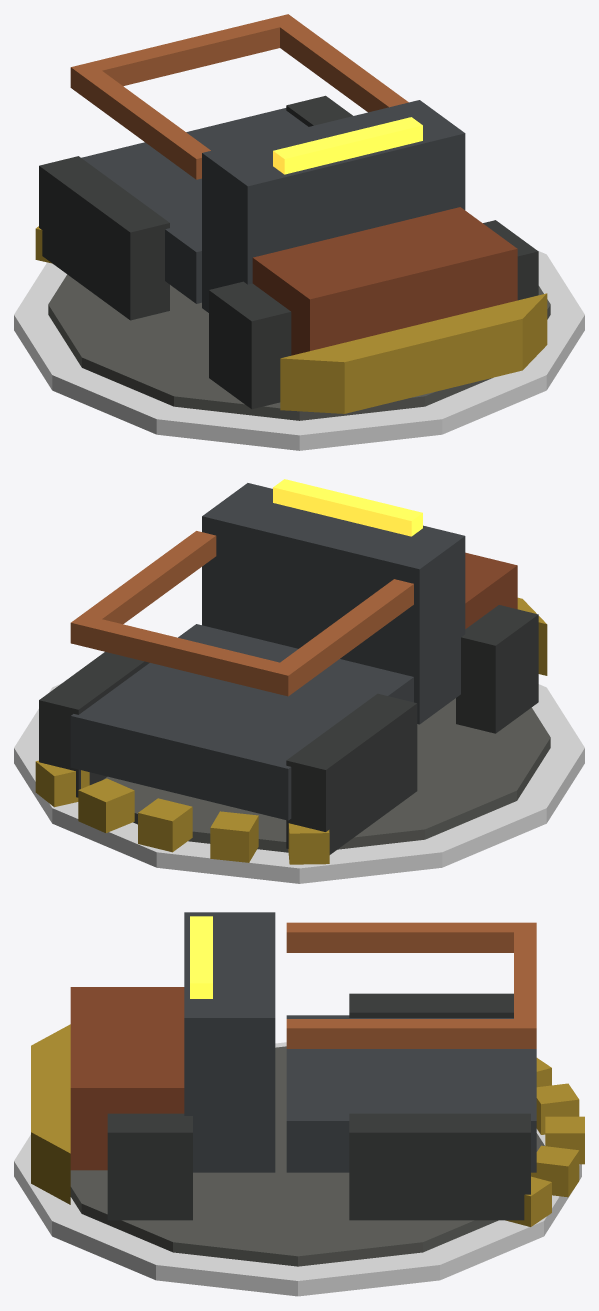
Rendered from vehicle_token_t5.glb.
3 views of the same model, one above another, from view 1: azimuth 30°, elevation 25°; view 2: azimuth 150°, elevation 25°; view 3: azimuth 270°, elevation 25° (orthographic).
Parts seen in each view (by area): view 1: vehicle_token_t5; view 2: vehicle_token_t5; view 3: vehicle_token_t5.
Part boxes in pixels (left/top/right/bottom): vehicle_token_t5: left=14, top=14, right=584, bottom=450; vehicle_token_t5: left=14, top=479, right=584, bottom=883; vehicle_token_t5: left=14, top=912, right=584, bottom=1296.
Bounding box in the file's own units: 1 × 0.44 × 1.
